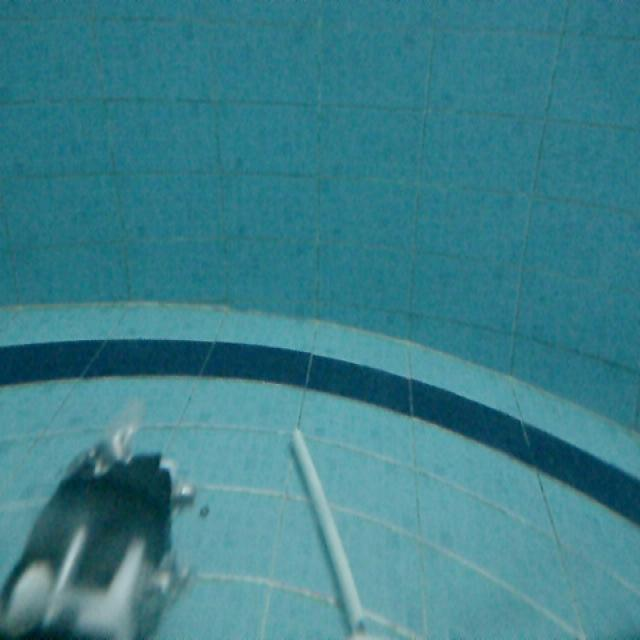Cube: (287, 422, 370, 640)
